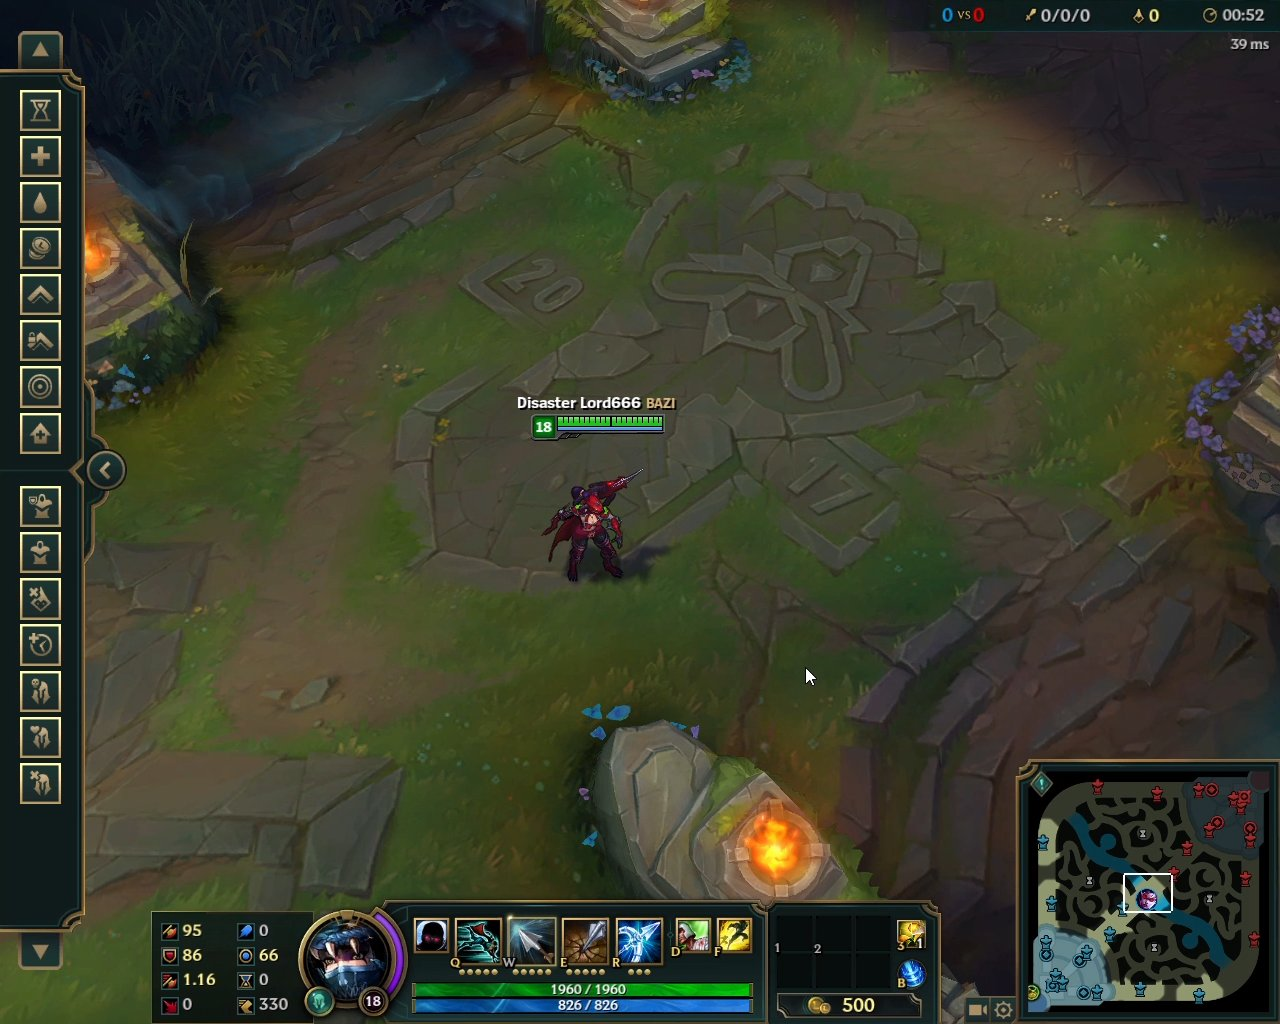Vayne: (533, 463, 650, 594)
